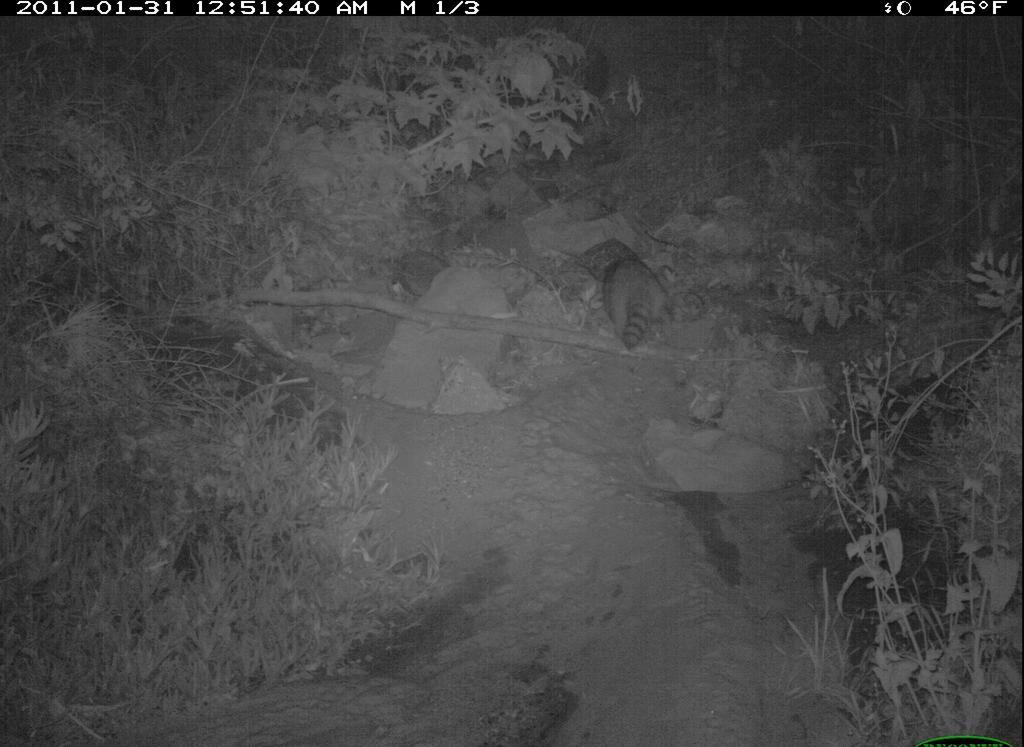raccoon: (592, 239, 690, 378)
